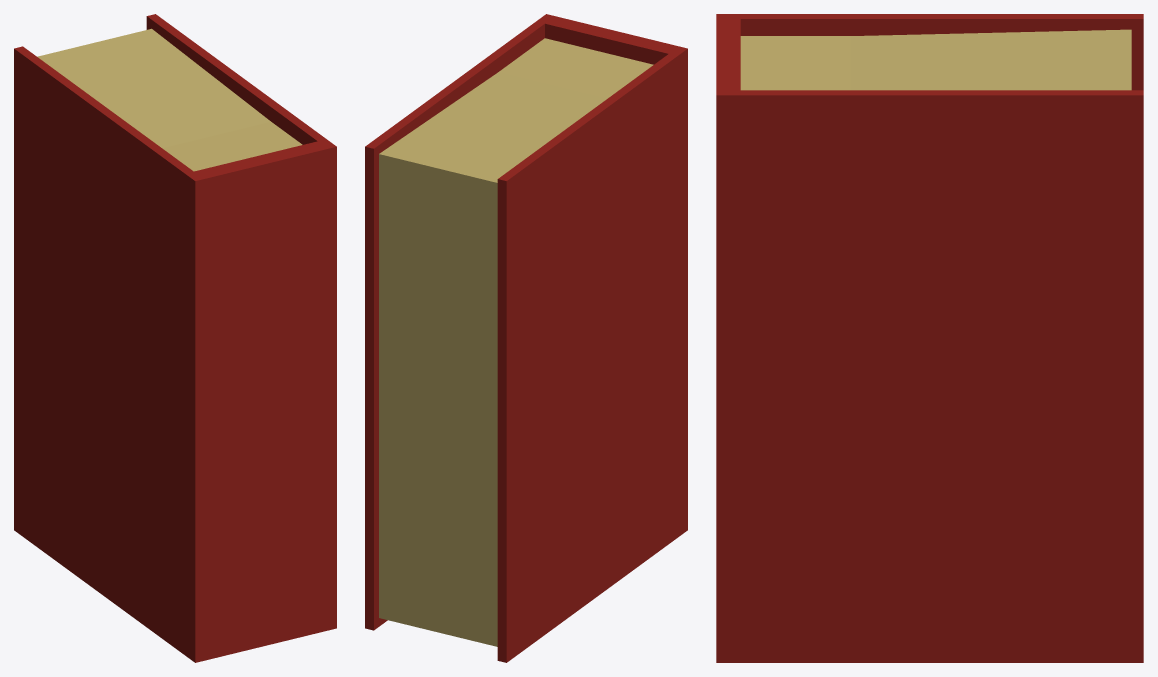
The model's file is CPI441_Fur_BookSingular_Red.fbx.
3 views of the same model, side by side, from view 1: azimuth 30°, elevation 25°; view 2: azimuth 150°, elevation 25°; view 3: azimuth 270°, elevation 25° (orthographic). The views are drawn at different scales.
Parts seen in each view (by area): view 1: Cube; view 2: Cube; view 3: Cube.
Boxes of the visible parts, x1,y1,x2,y2 form: Cube: [14, 14, 336, 662]; Cube: [365, 14, 687, 662]; Cube: [716, 14, 1143, 662].
Size of the model in its own units: 49.65 by 161 by 110.
